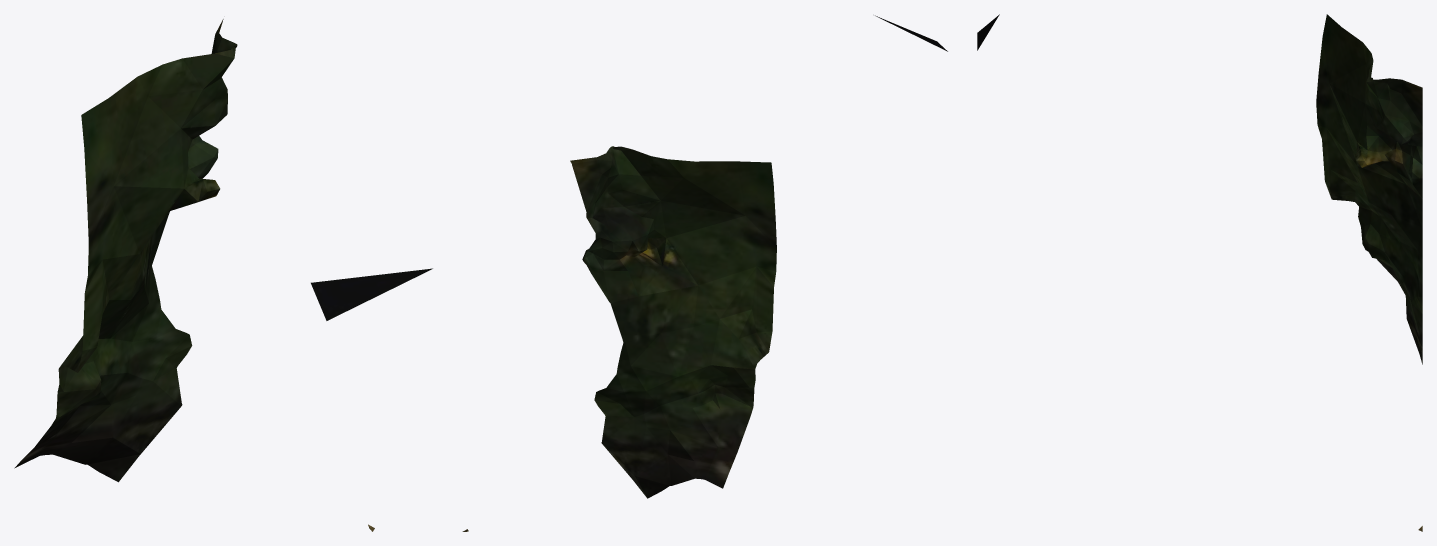
3 renders of one model, left to right at view 1: azimuth 30°, elevation 25°; view 2: azimuth 150°, elevation 25°; view 3: azimuth 270°, elevation 25°, orthographic. The views are drawn at different scales.
Size of the model in its own units: 0.5584 by 0.8137 by 0.8374.
Materials: 1 (1 with a texture image).
